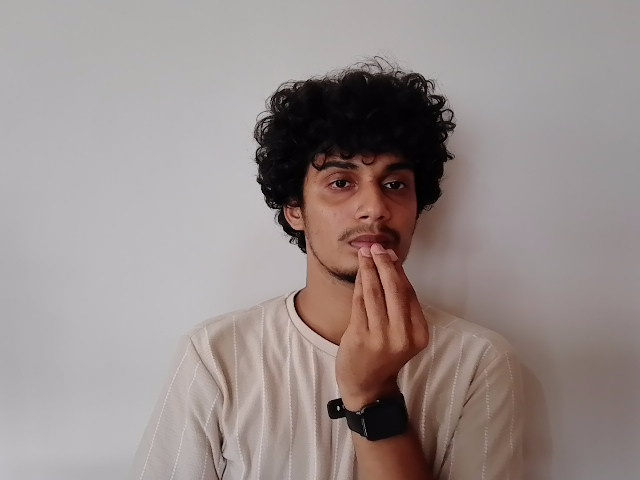eat: (275, 147, 439, 385)
